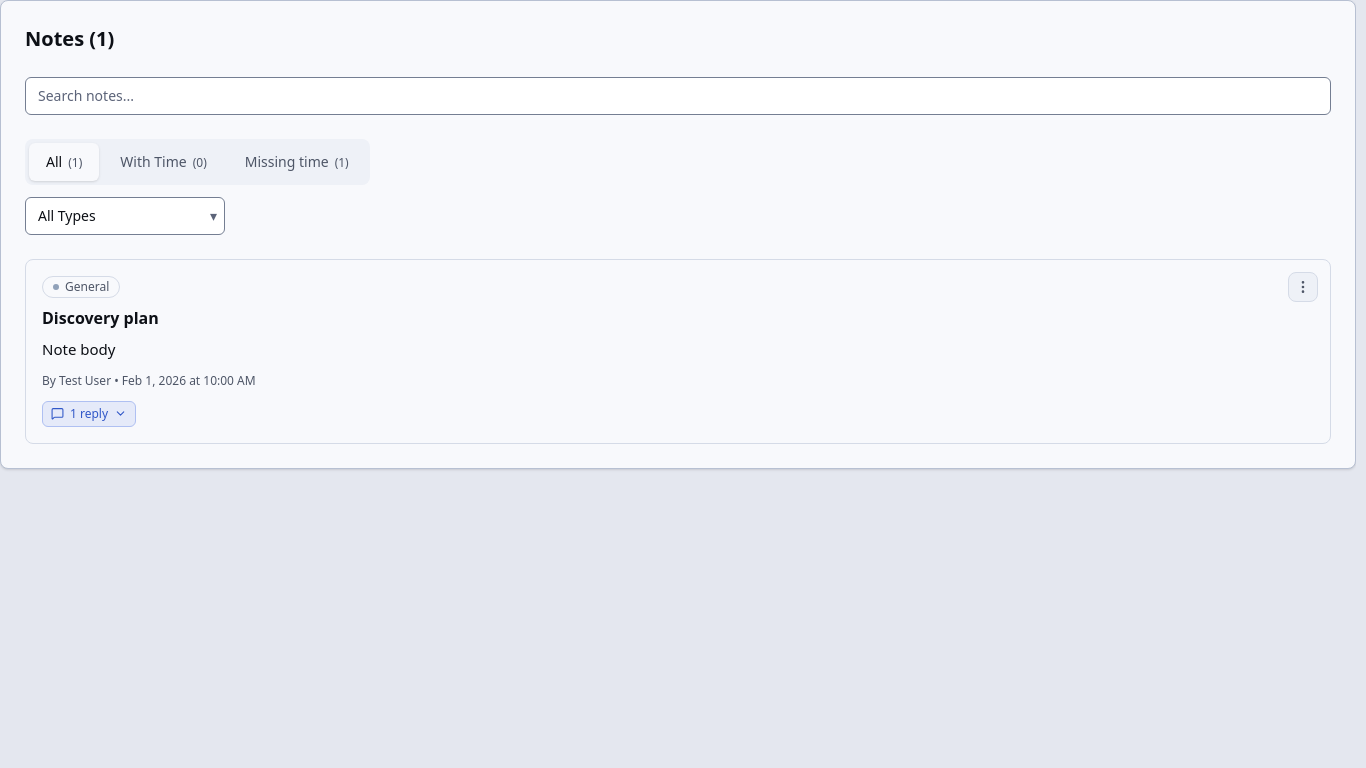
Test: the reply thread under a note › reads the thread only once it is opened
The width and height of the screenshot is (1366, 768).
expect the heading "Discovery plan" is shown: met, box [42,307,159,329]
Click the button "1 reply" at (89, 414), box [42,400,136,426]
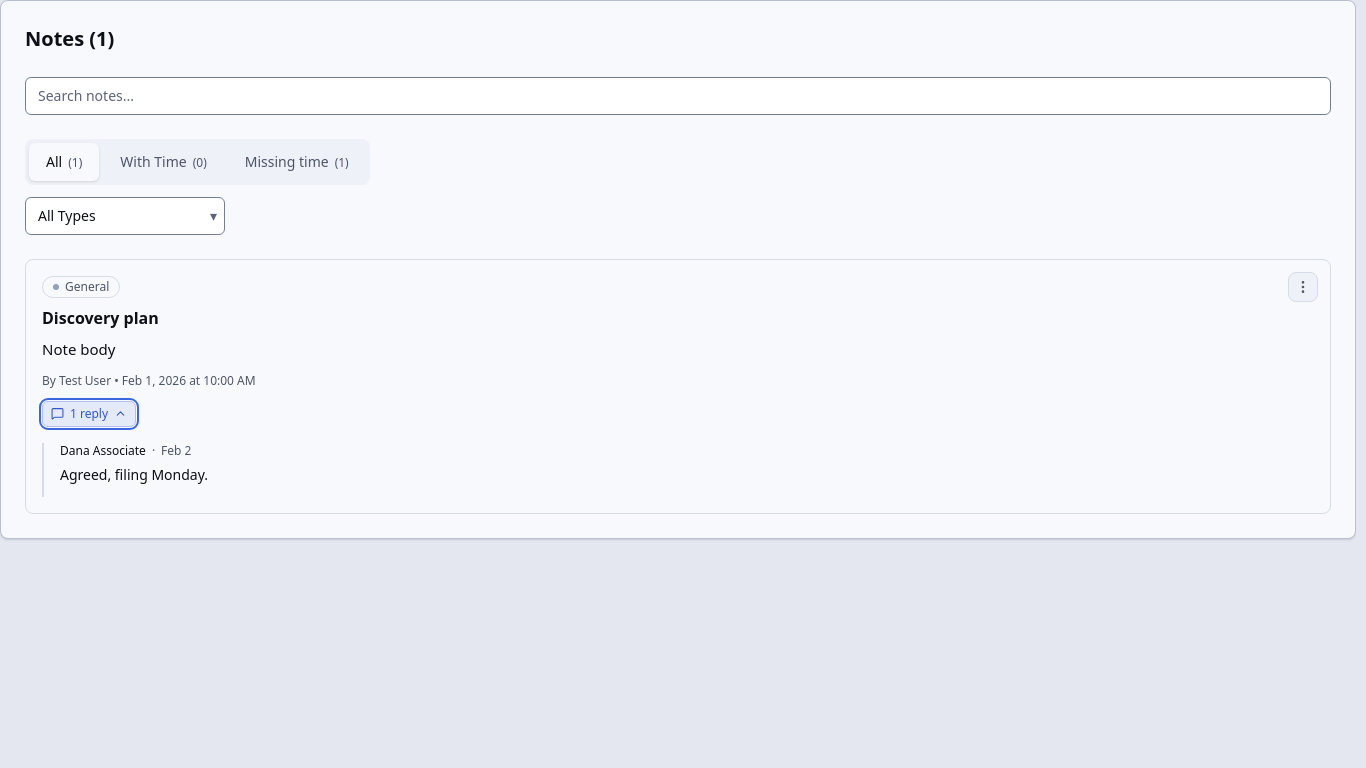
expect the text "Agreed, filing Monday." is shown: met, box [60,464,208,484]
expect the text "Dana Associate" is shown: met, box [60,442,146,458]
